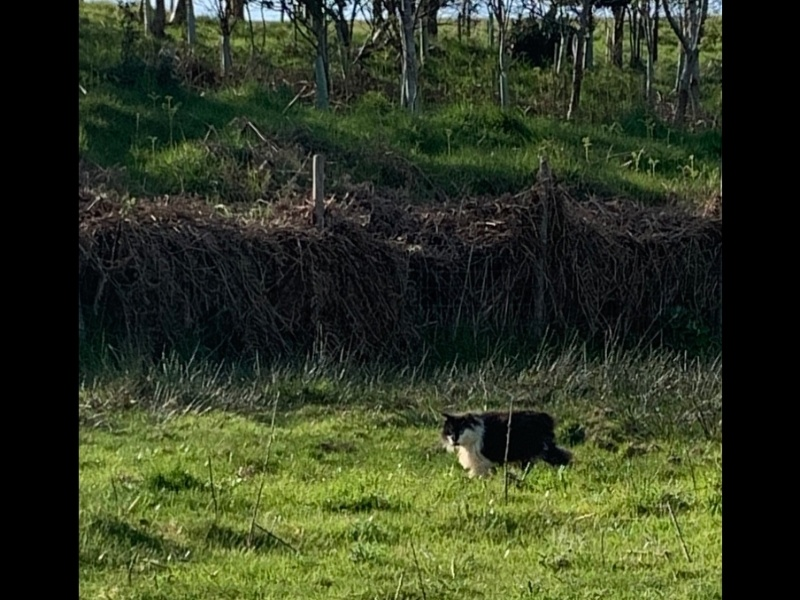cat: (438, 408, 576, 479)
